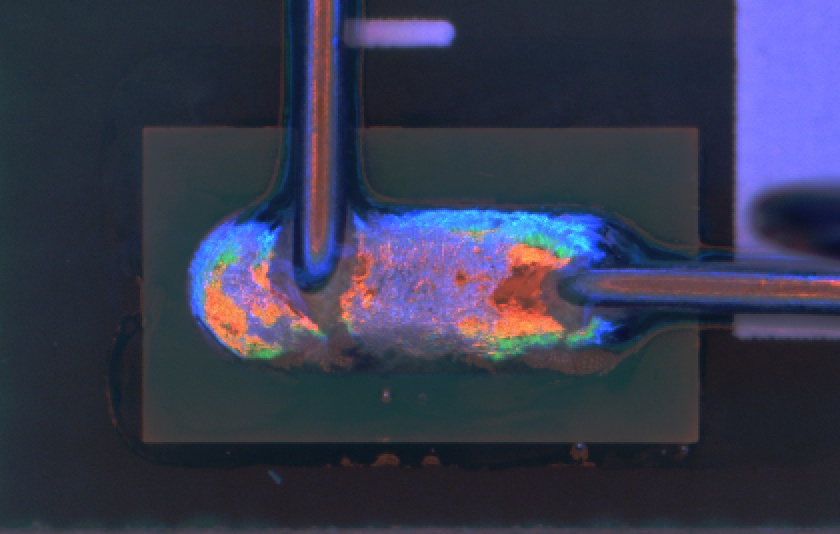spring: (275, 1, 362, 307), (548, 249, 840, 328)
spring_pin: (184, 203, 670, 358)
